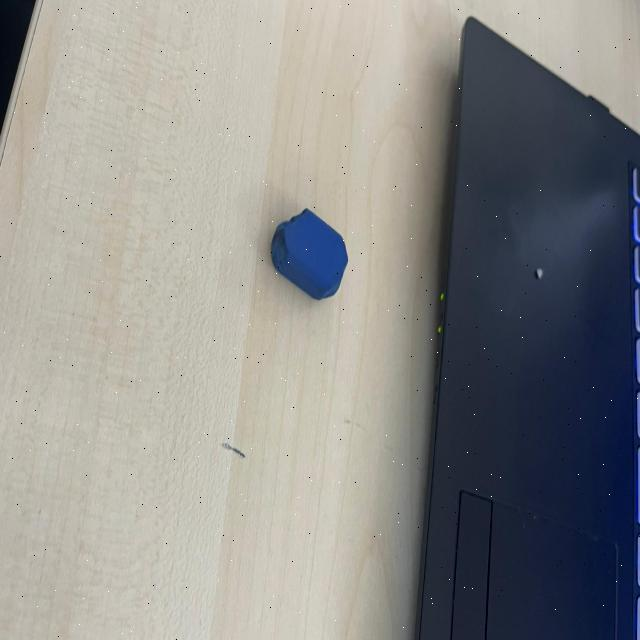eraser: (270, 206, 349, 304)
